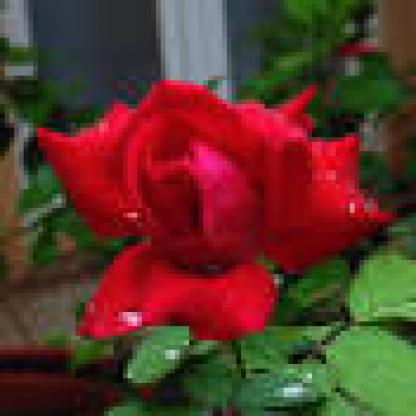Rose-Mawar: (29, 77, 389, 332)
